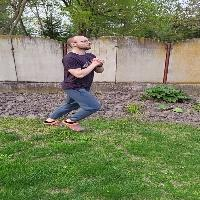lunges: (44, 28, 117, 143)
